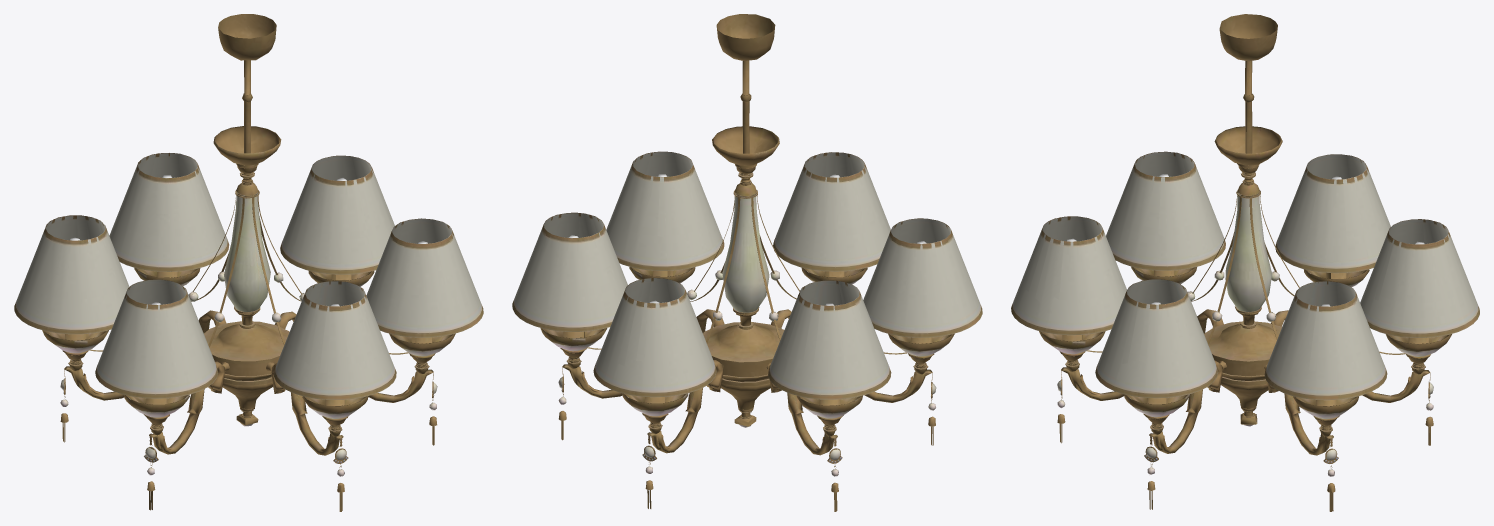
Rendered from ph_Chandelier_01.glb.
3 renders of one model, left to right at view 1: azimuth 30°, elevation 25°; view 2: azimuth 150°, elevation 25°; view 3: azimuth 270°, elevation 25°, orthographic.
Visible parts, largest first — view 1: Chandelier_01; view 2: Chandelier_01; view 3: Chandelier_01.
Part boxes in pixels (<box>): Chandelier_01: <box>14,14,483,511</box>; Chandelier_01: <box>512,14,982,511</box>; Chandelier_01: <box>1011,14,1479,511</box>.
Bounding box in the file's own units: 0.7465 × 0.7983 × 0.8155.
Materials: 2 (1 with a texture image).
